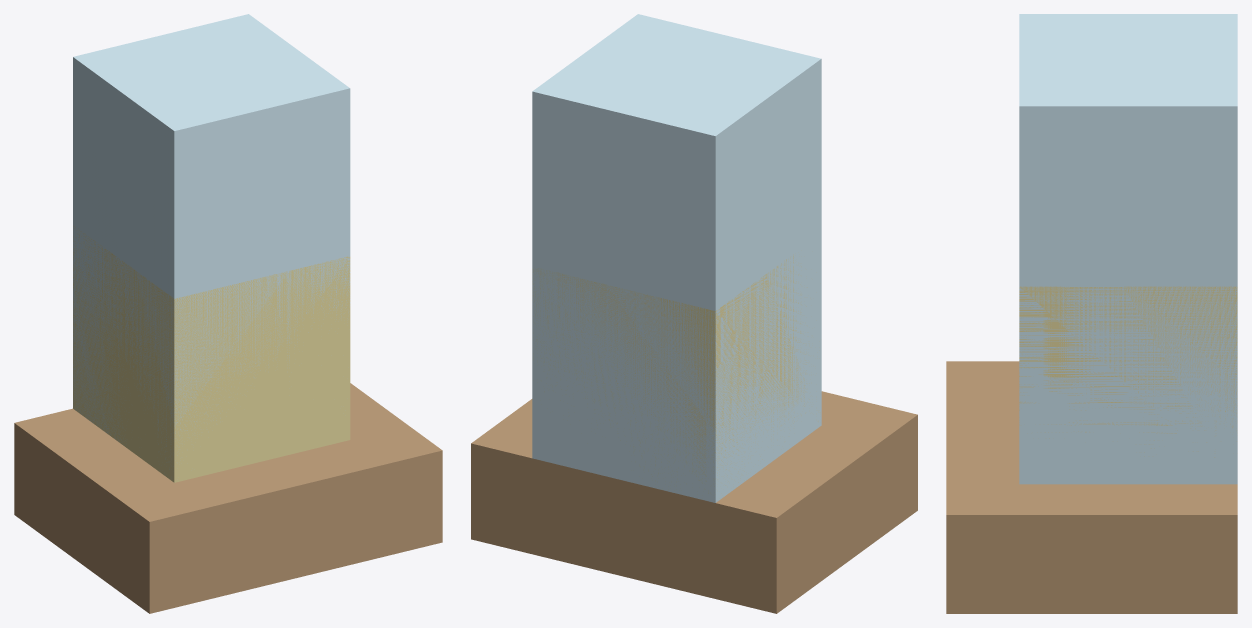
Rendered from Prop_Pet_AMF_Feeder_V12.glb.
3 renders of one model, left to right at view 1: azimuth 30°, elevation 25°; view 2: azimuth 150°, elevation 25°; view 3: azimuth 270°, elevation 25°, orthographic. The views are drawn at different scales.
Parts seen in each view (by area): view 1: Prop_Pet_AMF_Feeder_V12; view 2: Prop_Pet_AMF_Feeder_V12; view 3: Prop_Pet_AMF_Feeder_V12.
Part boxes in pixels (x1,y1,x2,y2): Prop_Pet_AMF_Feeder_V12: (14,14,442,613); Prop_Pet_AMF_Feeder_V12: (471,14,917,613); Prop_Pet_AMF_Feeder_V12: (946,14,1237,613).
Bounding box in the file's own units: 0.5 × 0.7234 × 0.4.
